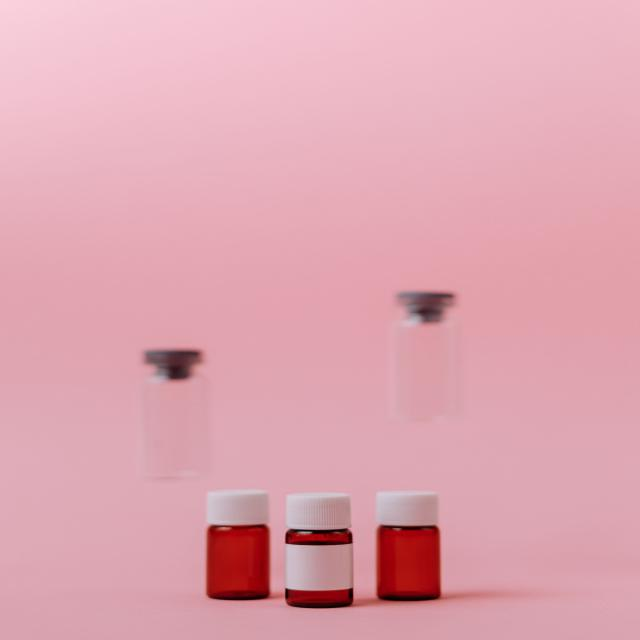Bottle: (392, 293, 457, 421), (144, 351, 208, 478), (286, 493, 353, 608), (377, 492, 440, 600), (207, 490, 269, 599)
